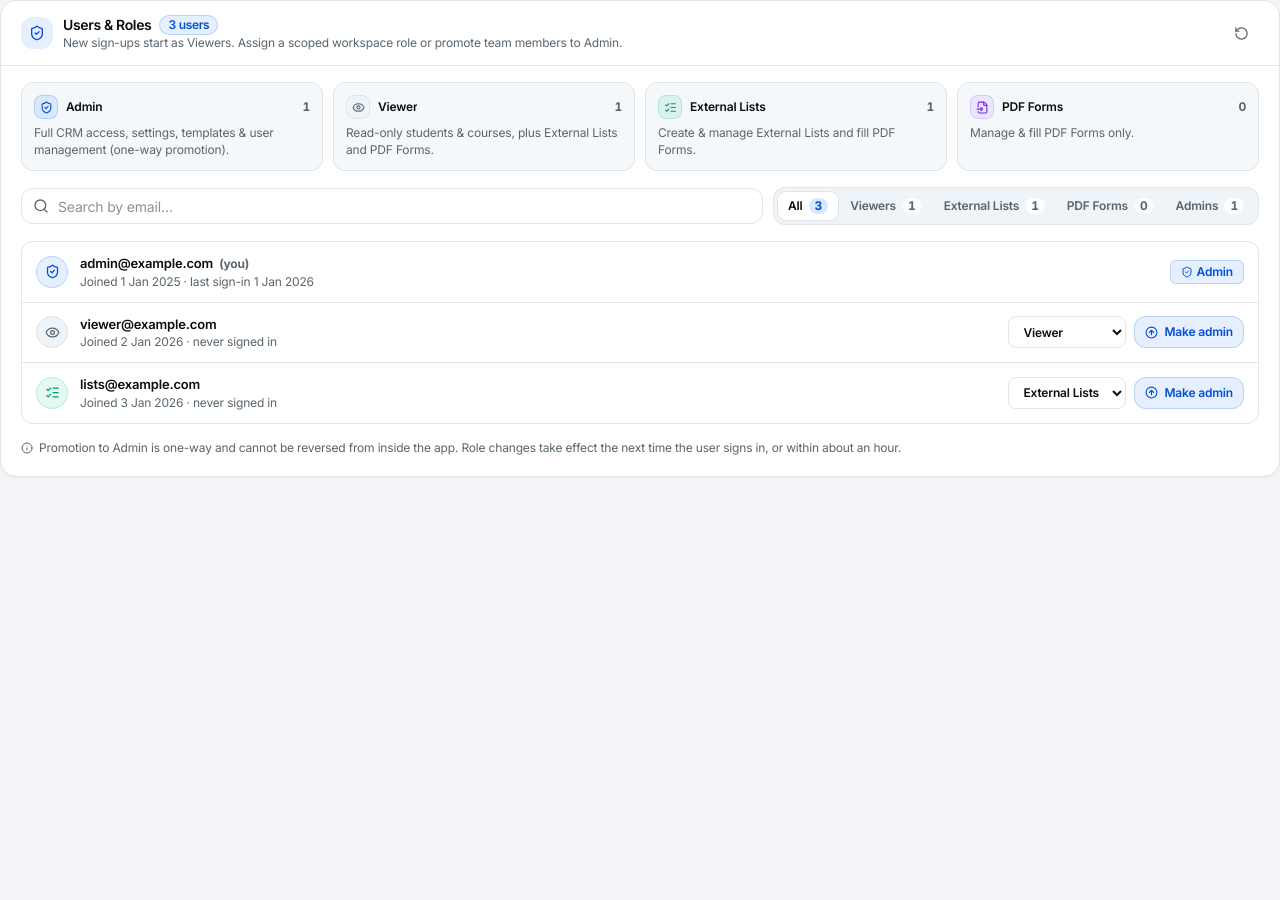
UserRolesSection › promotes a viewer after confirmation
Later steps or results of the test are not shown.
Click the button "Make admin" in the row of "viewer@example.com".
click(1189, 332)  # box [1134,316,1244,348]
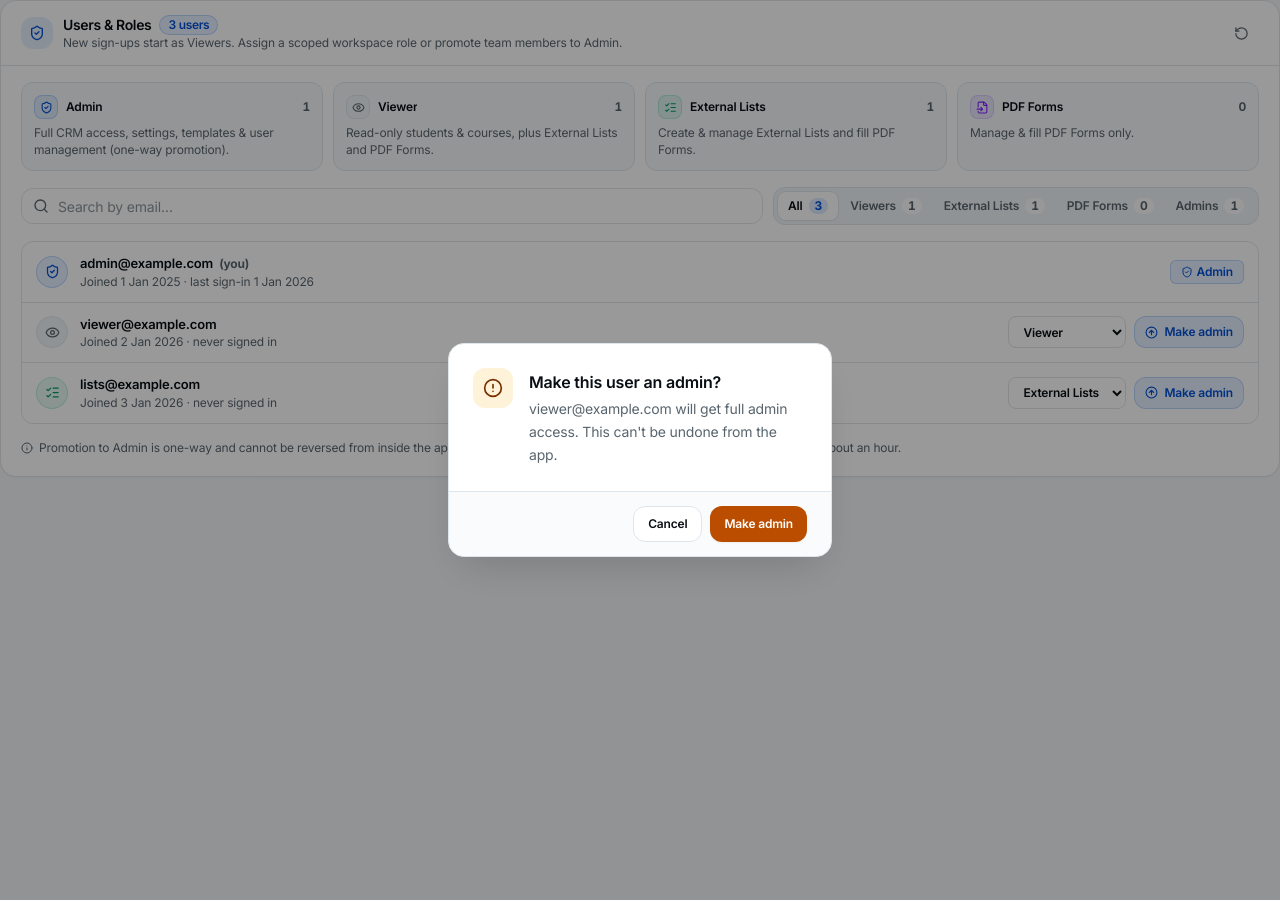
Now the heading "Make this user an admin?" is shown, box [529,372,721,392]
